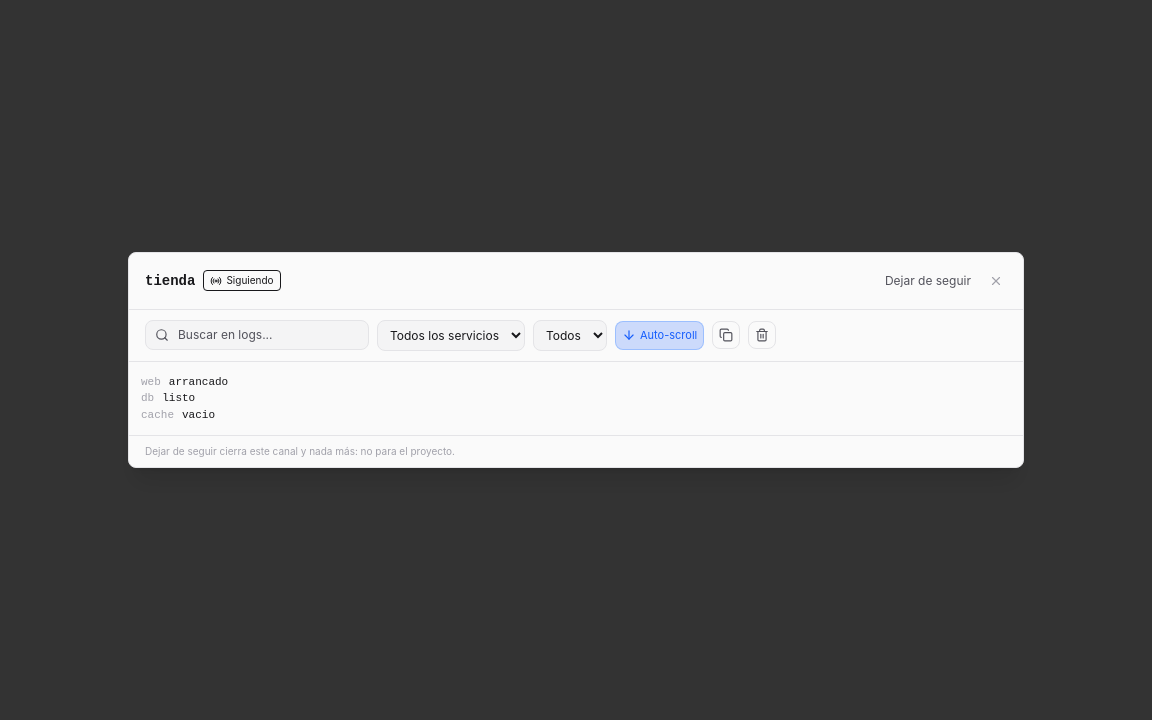
Scenario: ComposeLogsViewer › filtra por servicio, que es lo que distingue a un proyecto
Select "db" in the dropdown named "filtrar por servicio" at (451, 335), box [377, 320, 525, 351]
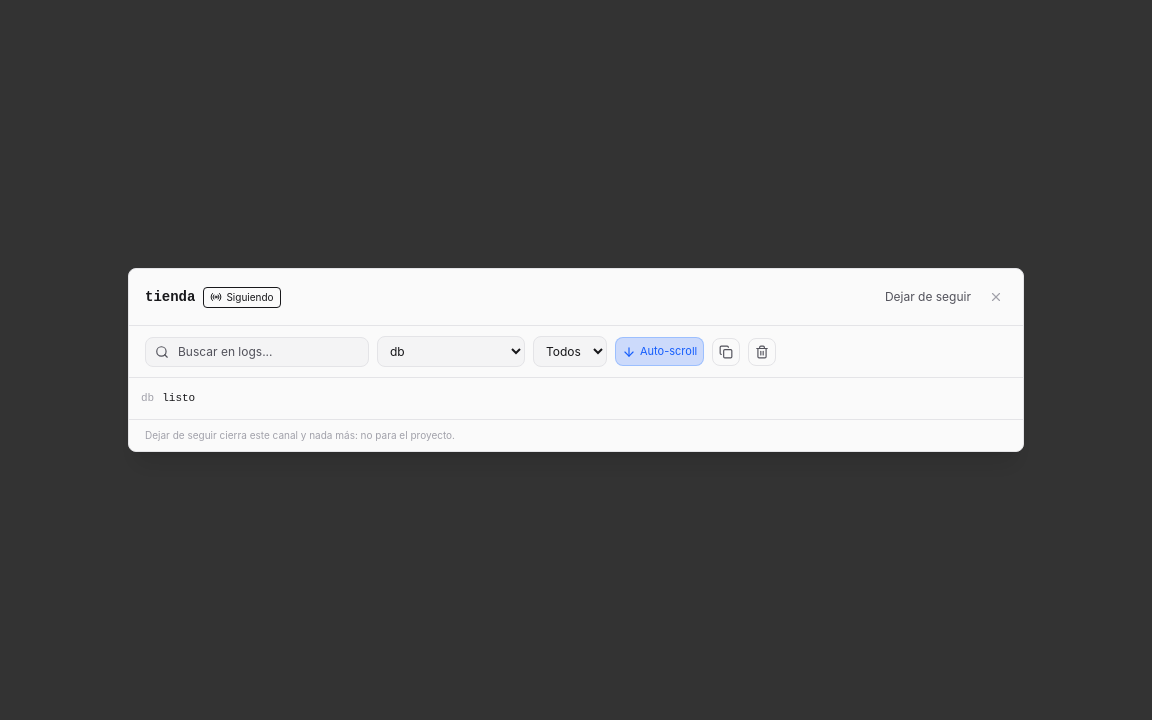
Expected: the text "listo" is shown, [162, 390, 195, 407]
Expected: the text "arrancado" is gone
